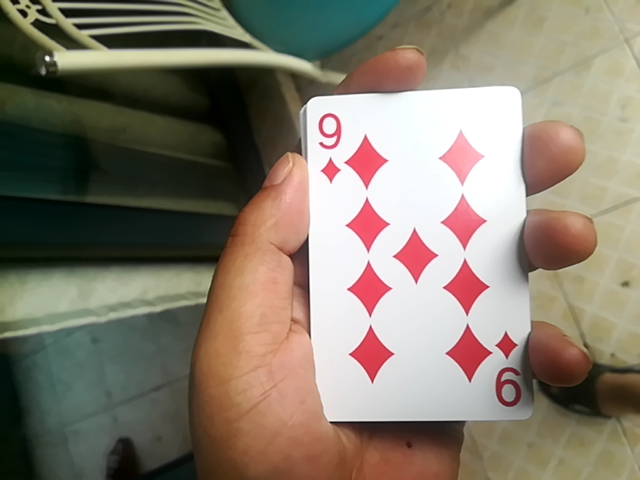fk 9: (312, 83, 534, 433)
